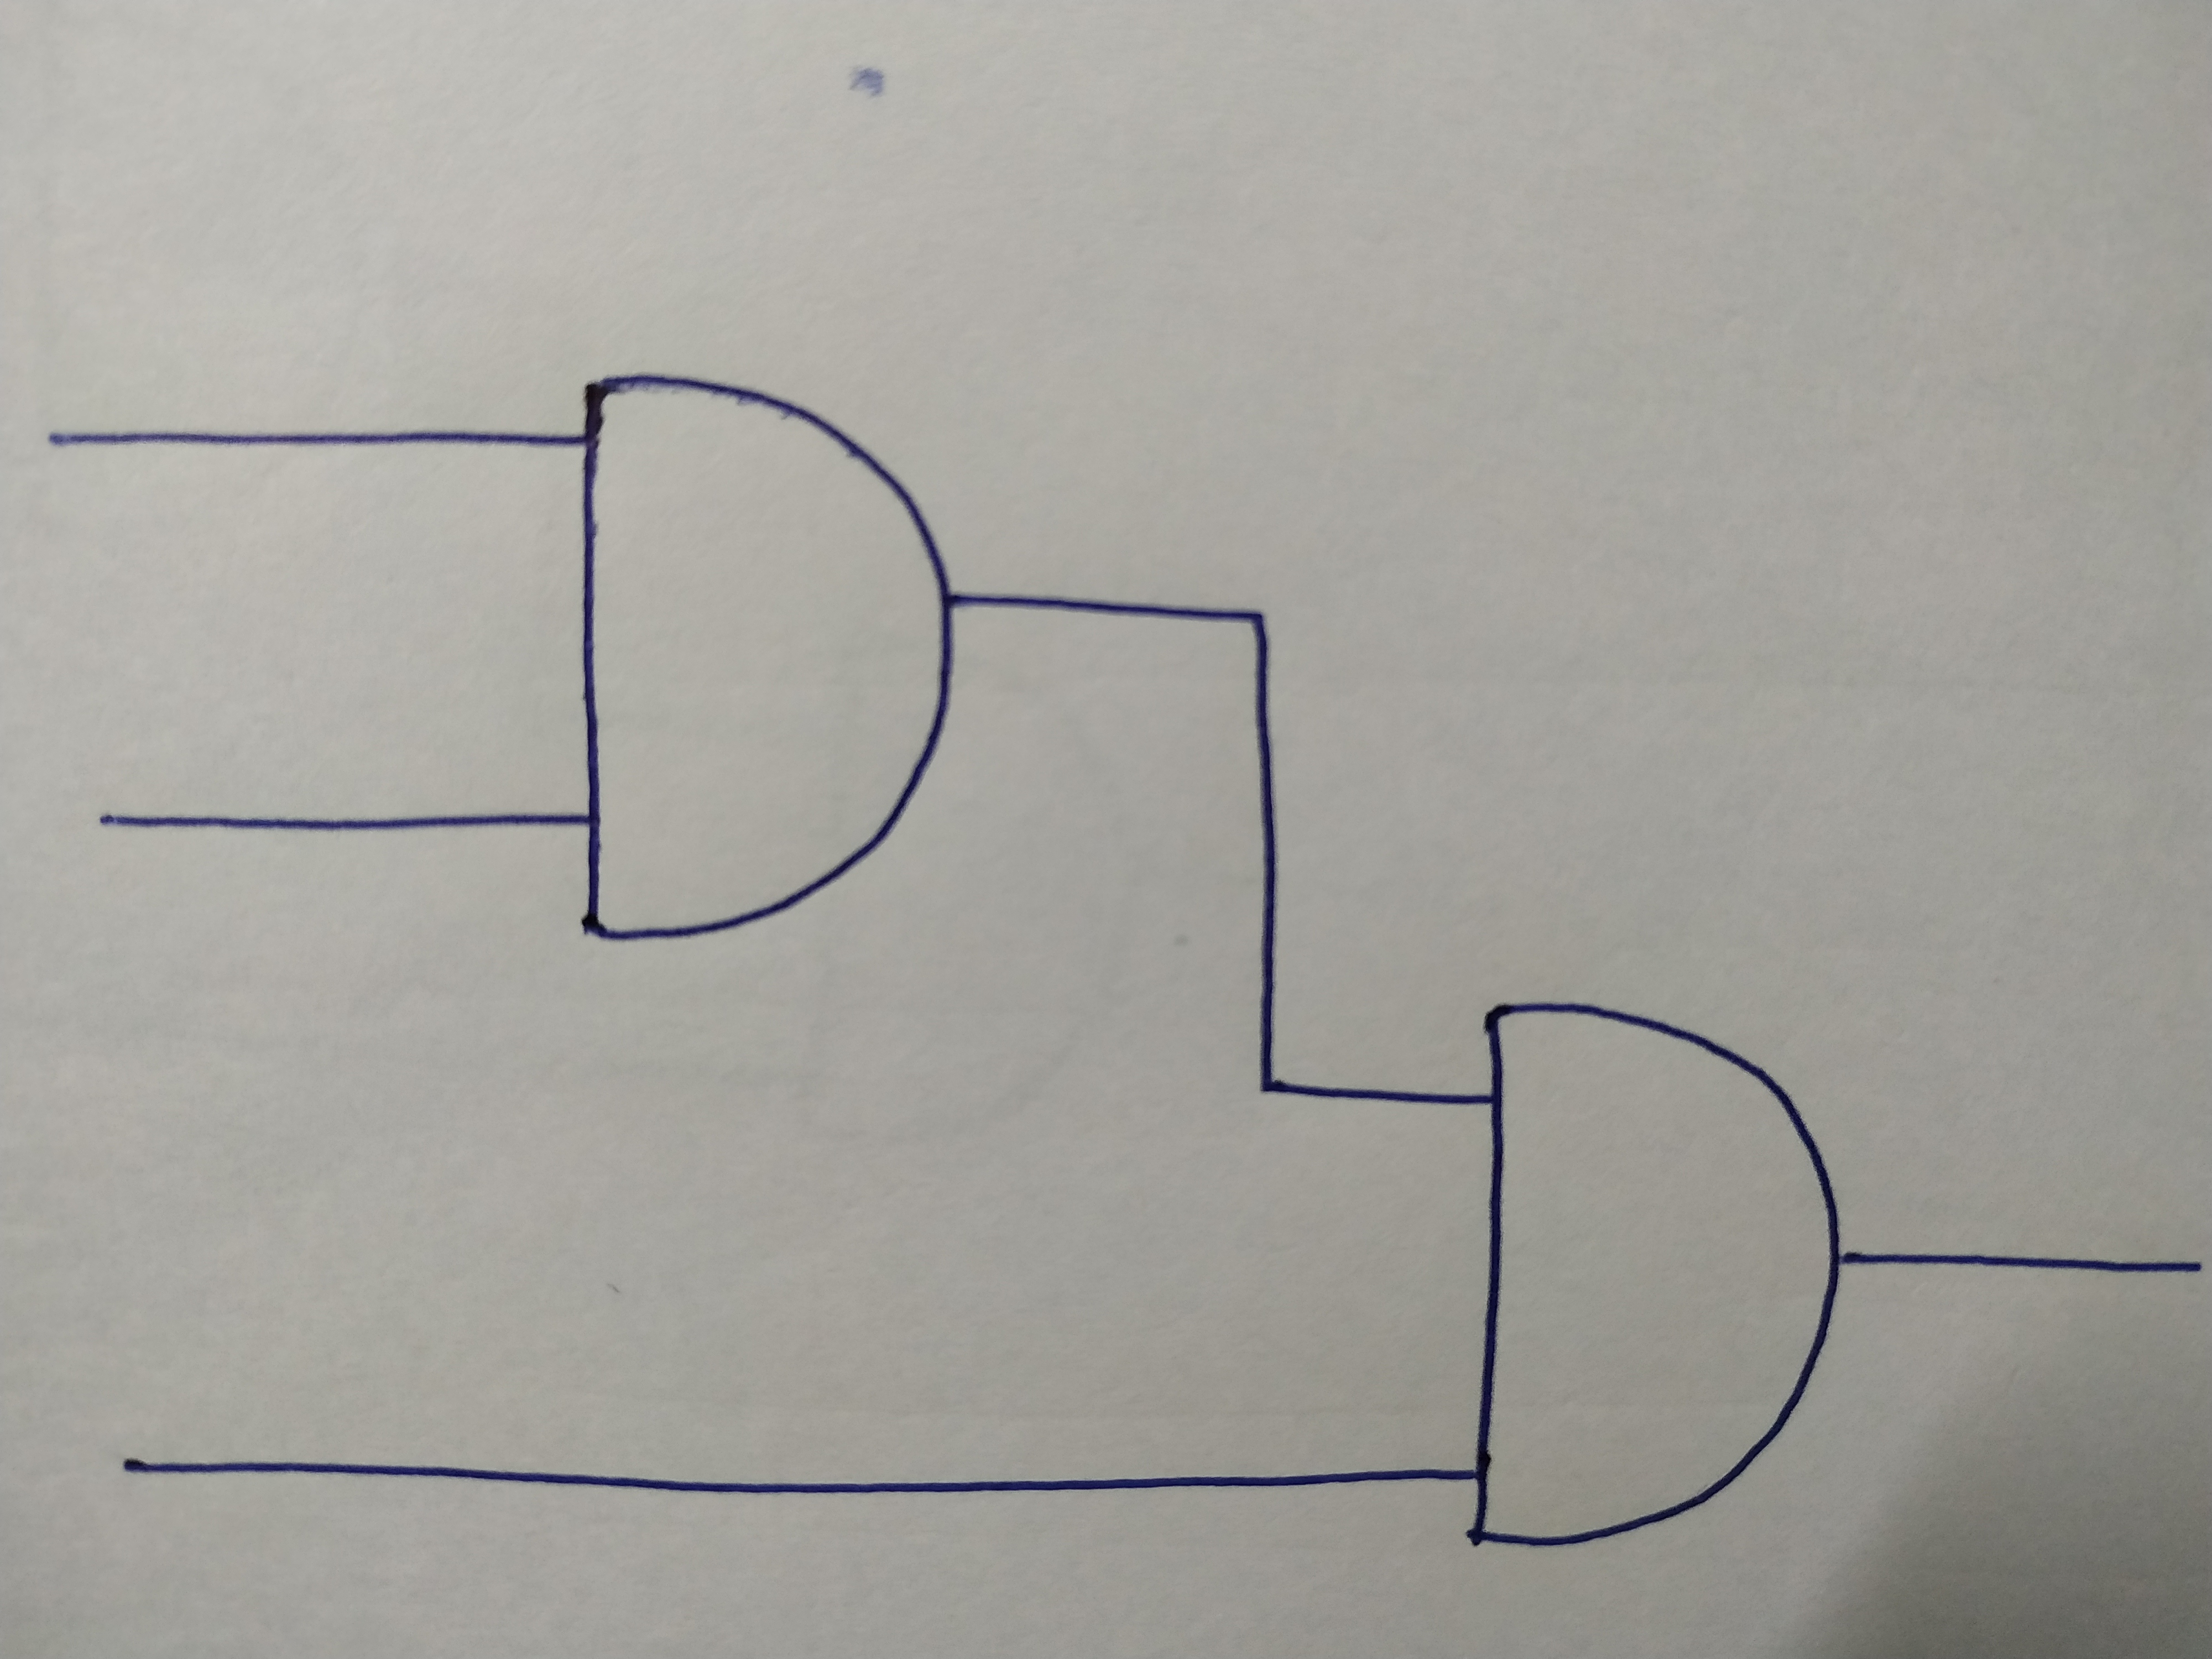and: (578, 371, 954, 945), (1470, 993, 1844, 1553)
